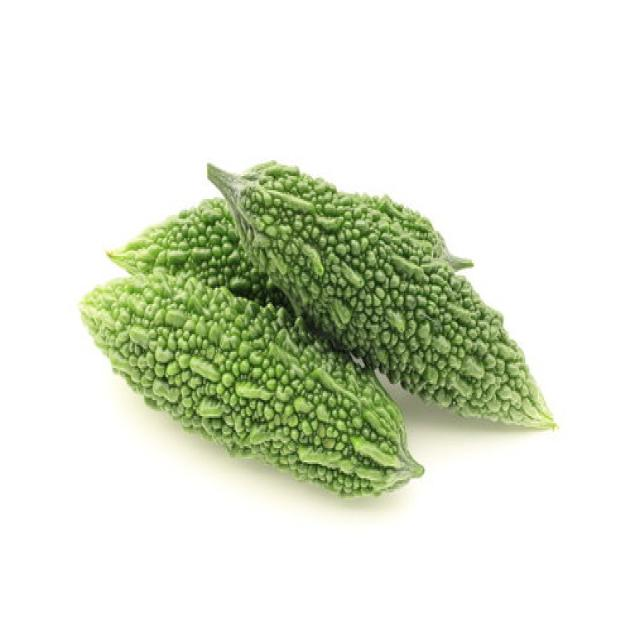Bitter_Gourd: (104, 161, 528, 489)
